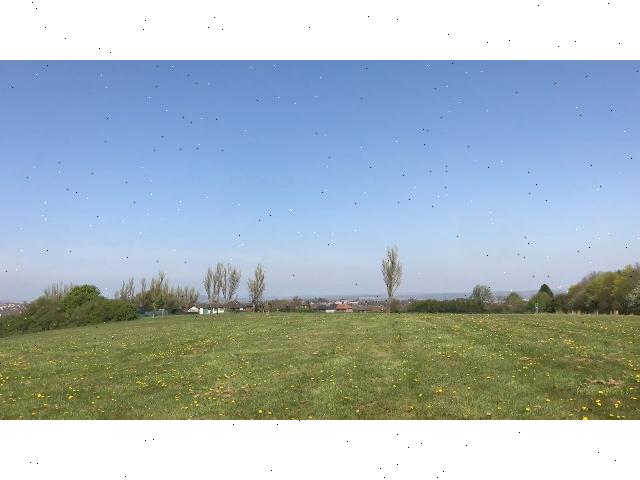Anti-Drone: (228, 242, 254, 248)
